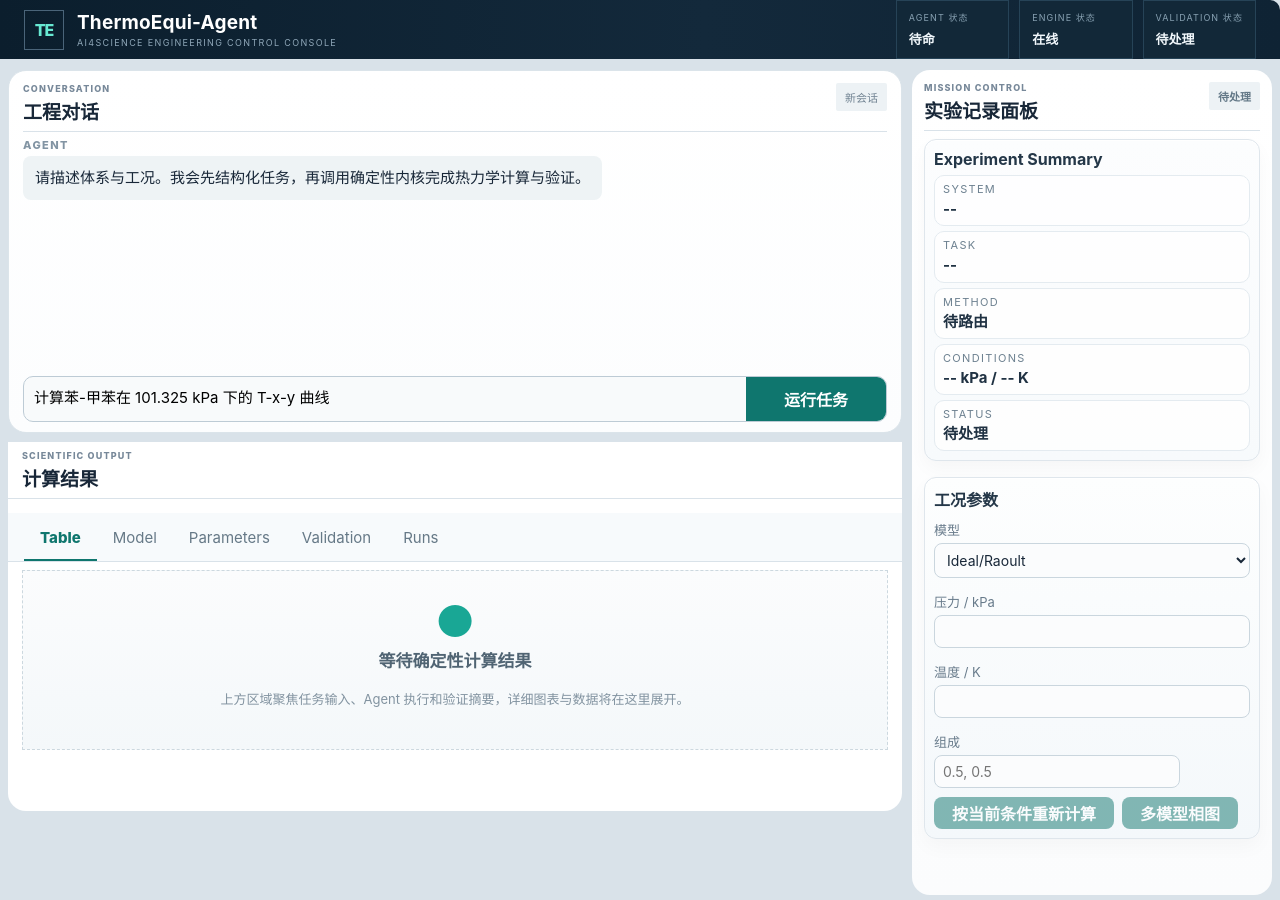
Workbench › loads the engineering workbench and accepts a conversation task
Expected: the heading "工程对话" is shown, [23,97,110,124]
Click the button "运行任务".
click(816, 399)  # box [746,377,886,421]
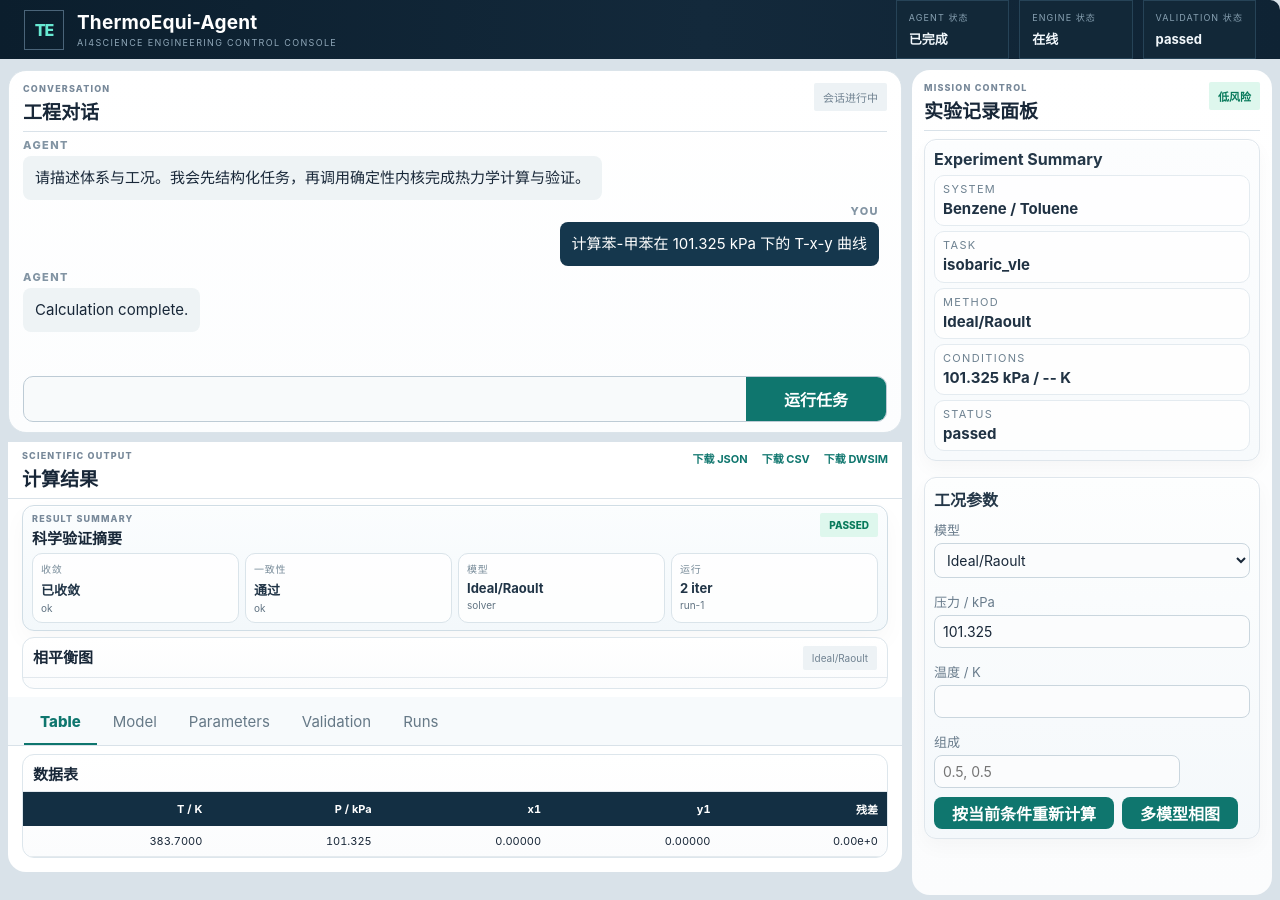
Now the text "Calculation complete." is shown, box [35,298,188,322]
Now the element with test id "vle-chart" is shown, box [23,678,887,688]
Now the text "Benzene / Toluene" is shown, box [943,199,1078,218]
